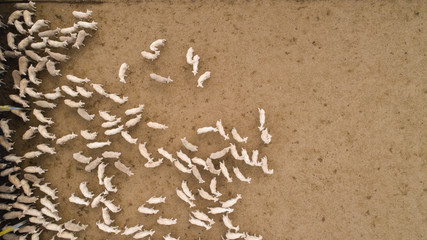sheep: (7, 191, 43, 209), (4, 101, 31, 124), (35, 205, 66, 224), (1, 9, 29, 30), (24, 15, 54, 34), (93, 195, 124, 213), (62, 70, 95, 86), (39, 193, 65, 213), (30, 106, 55, 126), (12, 222, 43, 238), (187, 217, 214, 235), (89, 190, 111, 212), (70, 30, 92, 52), (39, 181, 61, 203), (195, 71, 215, 95), (216, 191, 242, 209), (99, 149, 130, 164), (86, 139, 113, 156), (60, 96, 87, 113), (73, 82, 97, 101), (219, 215, 245, 232), (115, 158, 137, 178), (208, 144, 231, 163), (43, 57, 62, 80), (8, 68, 27, 91), (146, 71, 175, 86), (202, 155, 220, 179), (192, 210, 216, 228), (208, 204, 238, 218), (61, 220, 91, 234), (9, 93, 31, 112), (4, 171, 26, 190), (30, 37, 56, 53), (230, 128, 253, 146), (45, 46, 69, 63), (122, 221, 147, 237), (4, 208, 29, 224), (60, 80, 79, 101), (19, 49, 47, 63), (219, 158, 234, 184), (70, 18, 100, 31), (45, 37, 71, 52), (59, 21, 83, 37), (35, 28, 67, 40), (18, 10, 42, 26), (40, 86, 64, 102), (1, 116, 17, 140), (101, 206, 120, 226), (11, 18, 31, 37), (181, 134, 202, 152), (186, 163, 204, 184), (259, 154, 276, 176), (94, 223, 125, 235), (21, 173, 44, 189), (97, 161, 111, 187), (104, 175, 122, 195), (90, 82, 114, 97), (116, 61, 131, 85), (35, 122, 55, 140), (21, 164, 51, 176), (156, 144, 177, 161), (4, 31, 21, 52), (4, 153, 26, 169), (144, 195, 171, 208), (20, 207, 49, 219), (197, 188, 220, 203), (15, 77, 33, 96), (20, 124, 40, 141), (69, 7, 95, 20), (171, 159, 192, 175), (87, 154, 103, 175), (13, 38, 34, 54), (76, 107, 100, 121), (227, 140, 242, 162), (232, 163, 247, 185), (108, 90, 130, 105), (54, 130, 76, 145), (217, 116, 230, 141), (173, 191, 192, 208), (102, 125, 125, 139), (1, 48, 24, 62), (220, 227, 244, 240), (124, 114, 146, 128), (190, 155, 208, 172), (37, 142, 55, 159), (257, 105, 269, 130), (209, 177, 224, 197), (138, 141, 153, 161), (103, 117, 123, 132), (183, 46, 198, 66), (25, 85, 45, 100), (137, 204, 160, 217), (139, 48, 162, 61), (181, 179, 193, 203), (143, 158, 167, 170), (30, 58, 54, 70), (1, 189, 19, 205), (146, 121, 172, 132), (119, 131, 141, 144), (177, 152, 197, 166), (39, 224, 67, 234), (133, 227, 158, 238), (250, 146, 263, 167), (198, 124, 219, 137), (147, 37, 168, 50), (259, 128, 273, 147), (98, 110, 120, 122), (55, 32, 79, 43), (33, 100, 55, 112), (22, 148, 42, 161), (19, 182, 34, 199), (240, 146, 252, 167), (125, 103, 146, 115), (1, 225, 22, 236), (191, 56, 204, 73), (156, 217, 180, 226), (15, 1, 36, 11), (242, 230, 262, 240), (1, 184, 18, 194)
